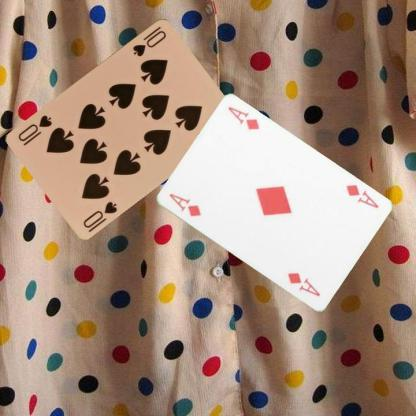10s: (130, 23, 168, 58), (80, 198, 119, 229)
Ad: (342, 182, 380, 210), (166, 190, 202, 218)
